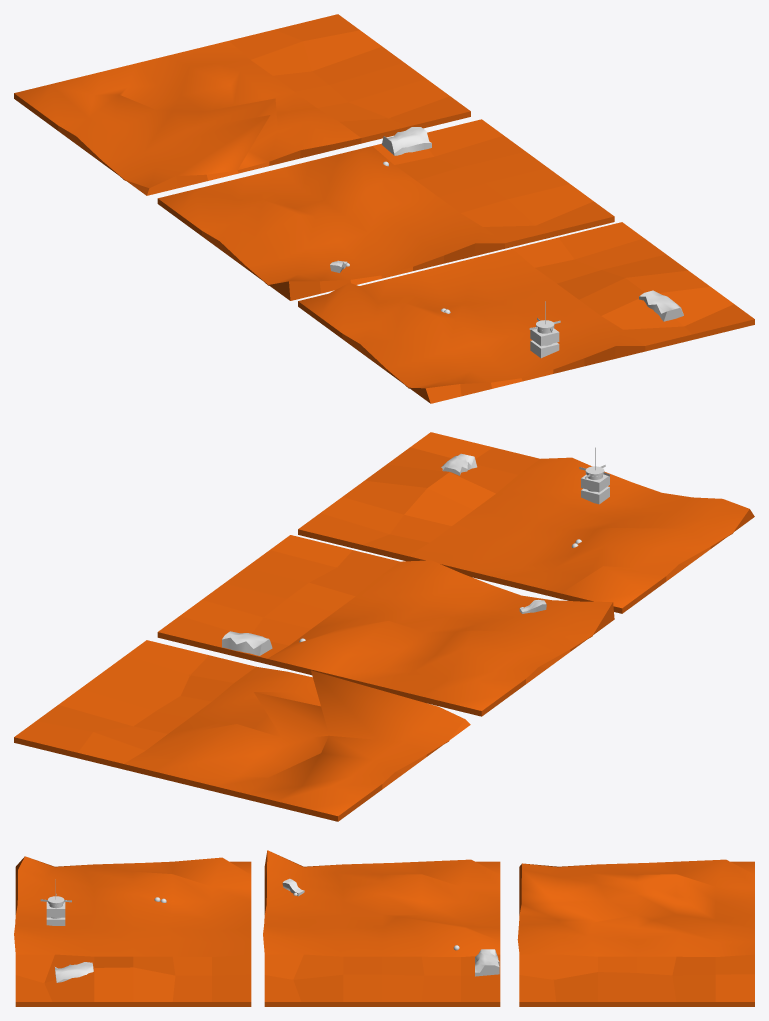
File: Space-outside (1).FBX
3 renders of one model, top to bottom at view 1: azimuth 30°, elevation 25°; view 2: azimuth 150°, elevation 25°; view 3: azimuth 270°, elevation 25°, orthographic. The views are drawn at different scales.
Parts seen in each view (by area): view 1: Plane005, Plane002, Plane004, Box001, Box010; view 2: Plane005, Plane002, Plane004, Box001; view 3: Plane005, Plane002, Plane004, Box001, Box010.
Boxes of the visible parts, x1,y1,x2,y2 form: Plane005: [14, 14, 470, 195]; Plane002: [157, 119, 614, 300]; Plane004: [298, 222, 754, 403]; Box001: [381, 127, 431, 155]; Box010: [639, 290, 683, 321]; Plane005: [14, 640, 470, 821]; Plane002: [157, 535, 614, 716]; Plane004: [298, 432, 754, 613]; Box001: [222, 631, 272, 655]; Plane005: [517, 859, 754, 1006]; Plane002: [263, 850, 500, 1006]; Plane004: [14, 856, 251, 1006]; Box001: [475, 949, 499, 976]; Box010: [55, 962, 93, 982].
Bounding box in the file's own units: 160 × 33.8 × 358.
